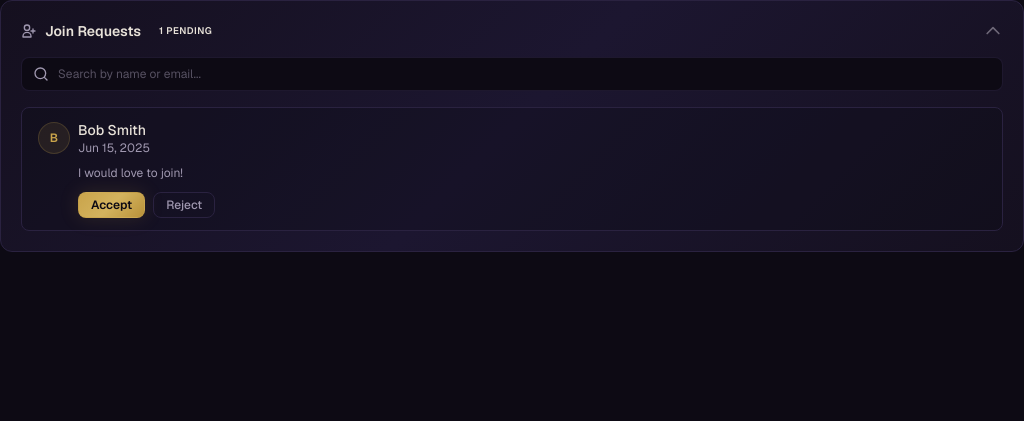
Test: JoinRequestPanel › shows no-results empty state when search yields nothing
The width and height of the screenshot is (1024, 421).
Type "nonexistent" into the field with placeholder "Search by name or email..." at point(512, 74), box [21, 57, 1003, 91]
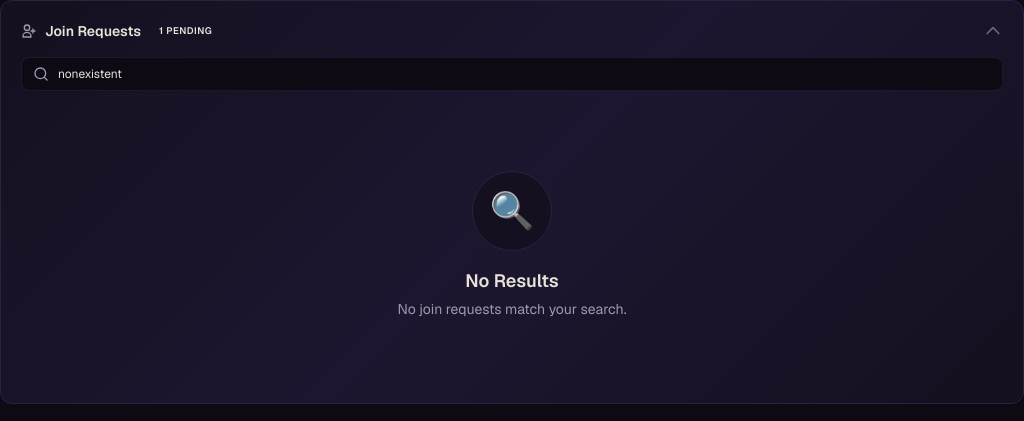
Result: the heading "No Results" is shown at [465, 269, 559, 292]
Result: the text "No join requests match your search." is shown at [398, 299, 626, 319]
